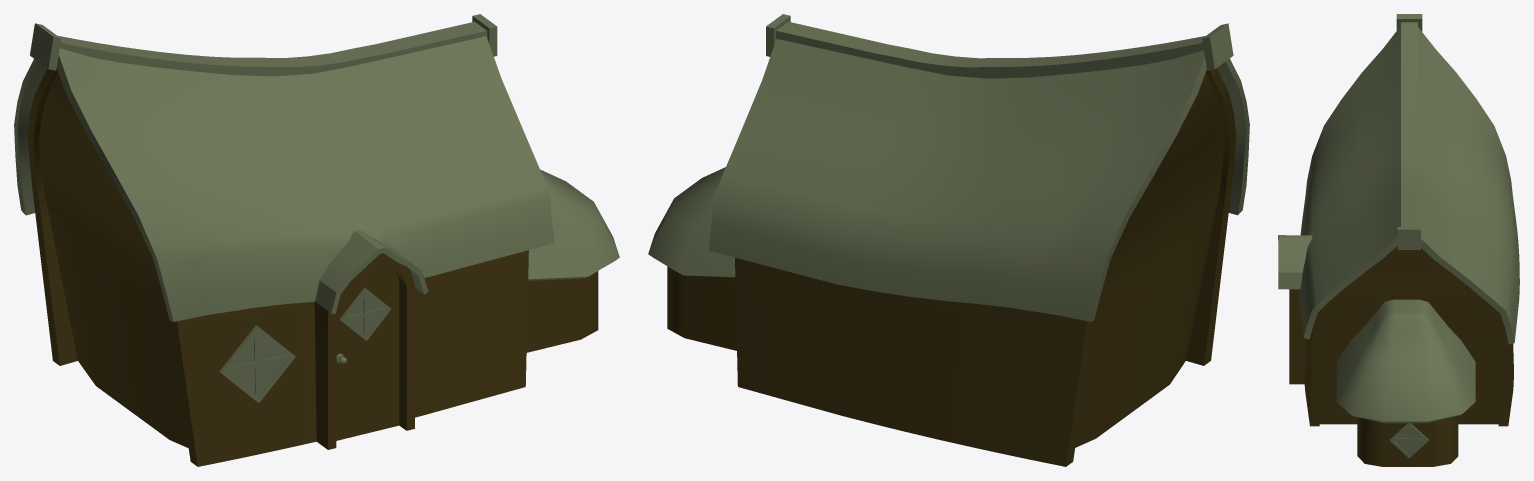
File: shop_low.fbx
3 views of the same model, side by side, from view 1: azimuth 30°, elevation 25°; view 2: azimuth 150°, elevation 25°; view 3: azimuth 270°, elevation 25° (orthographic). The views are drawn at different scales.
Parts seen in each view (by area): view 1: shop_low; view 2: shop_low; view 3: shop_low.
Boxes of the visible parts, x1=… form: shop_low: x1=14, y1=14, x2=619, y2=466; shop_low: x1=648, y1=14, x2=1249, y2=466; shop_low: x1=1278, y1=14, x2=1519, y2=466.
Size of the model in its own units: 690 by 479 by 380.
